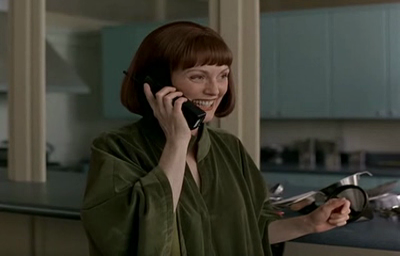face: (178, 65, 230, 122)
mcu: (1, 1, 400, 256)
person: (80, 21, 350, 254)
